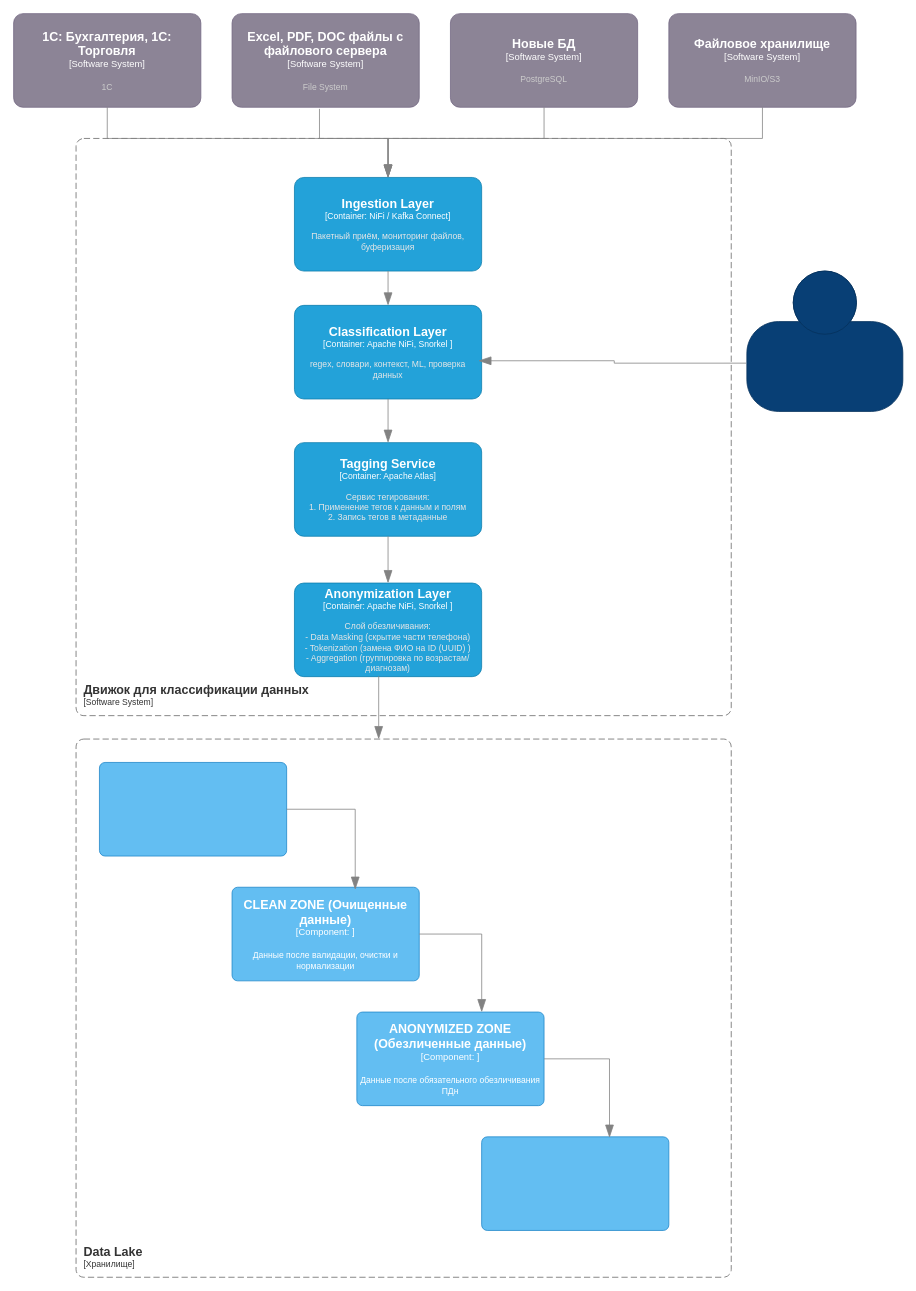
Some shapes in this 916 by 1291 pixel diagram are drawn without their labels. Here are the shapes that lost their labels. From the top down, the centre of each, then its label:
At (x=824, y=340): "Сотрудник [Person] Ручная проверка".
At (x=193, y=809): "RAW ZONE (Сырые данные) [Component: ] Приём данных в исходном виде без изменений".
At (x=575, y=1183): "DATA MART (Витрины) [Component: ] Агрегированные данные для конкретных задач".
